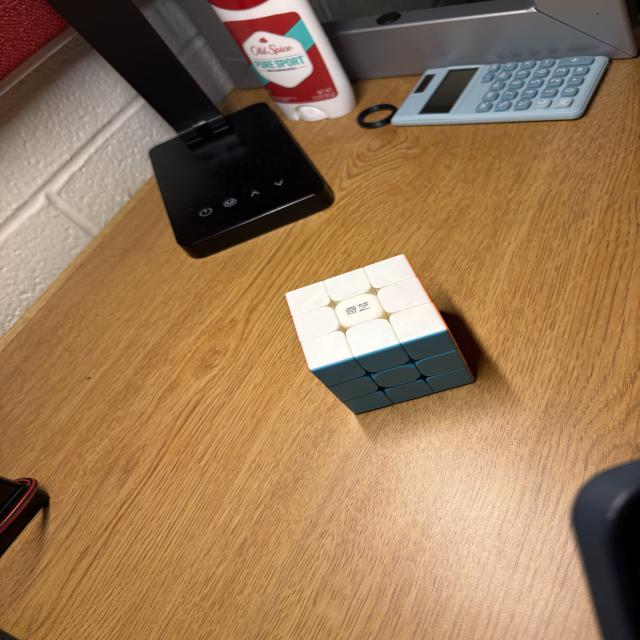Rubiks Cube: (285, 254, 475, 414)
